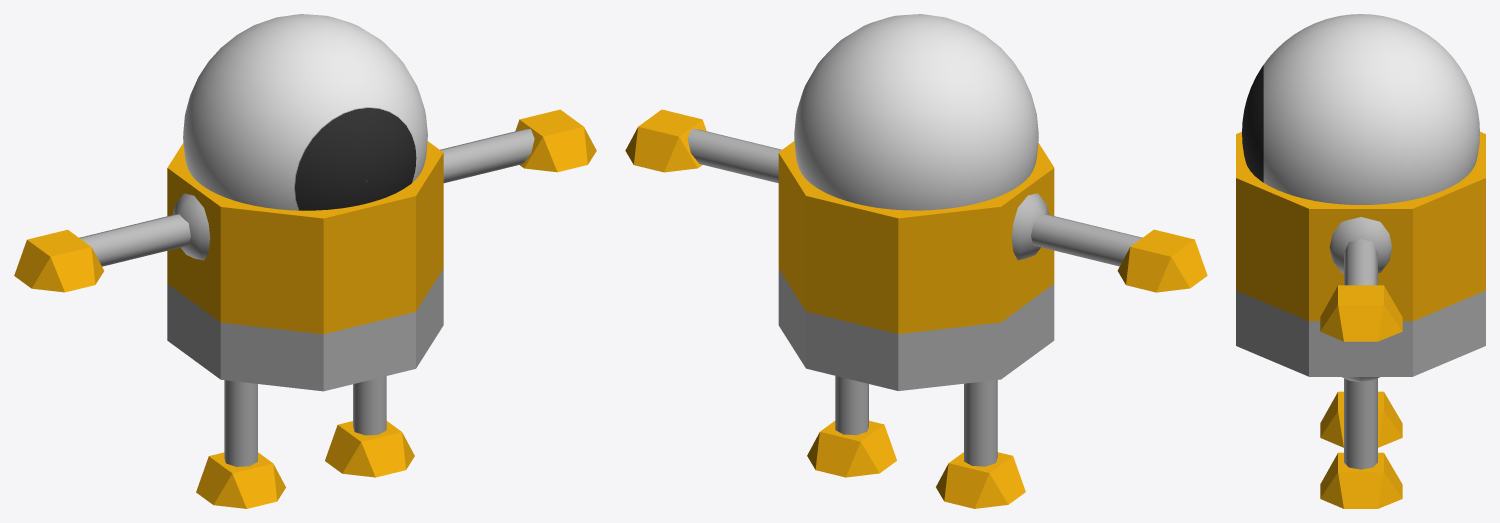
File: bot.dae
3 renders of one model, left to right at view 1: azimuth 30°, elevation 25°; view 2: azimuth 150°, elevation 25°; view 3: azimuth 270°, elevation 25°, orthographic. The views are drawn at different scales.
Visible parts, largest first — view 1: Eye, Torso, Hip, HandR, FootL, FootR, HandL, ArmR, ArmL, LegR, LegL, ShoulderR; view 2: Eye, Torso, Hip, HandR, FootL, FootR, HandL, ArmR, ArmL, LegR, LegL, ShoulderR; view 3: Eye, Torso, Hip, HandL, FootL, LegL, FootR, ShoulderL, ArmL.
Boxes of the visible parts, left/top/right/bottom form: Eye: left=183, top=14, right=427, bottom=210; Torso: left=167, top=141, right=443, bottom=334; Hip: left=167, top=268, right=443, bottom=391; HandR: left=14, top=229, right=103, bottom=292; FootL: left=325, top=421, right=414, bottom=477; FootR: left=196, top=452, right=285, bottom=508; HandL: left=515, top=109, right=596, bottom=172; ArmR: left=79, top=214, right=190, bottom=266; ArmL: left=440, top=129, right=534, bottom=183; LegR: left=224, top=380, right=257, bottom=466; LegL: left=353, top=376, right=386, bottom=435; ShoulderR: left=172, top=193, right=210, bottom=260; Eye: left=794, top=14, right=1038, bottom=210; Torso: left=778, top=141, right=1054, bottom=333; Hip: left=778, top=269, right=1054, bottom=390; HandR: left=1117, top=229, right=1207, bottom=292; FootL: left=807, top=420, right=896, bottom=477; FootR: left=936, top=452, right=1025, bottom=508; HandL: left=625, top=109, right=706, bottom=172; ArmR: left=1031, top=214, right=1142, bottom=266; ArmL: left=687, top=129, right=781, bottom=183; LegR: left=964, top=380, right=997, bottom=466; LegL: left=835, top=376, right=868, bottom=435; ShoulderR: left=1011, top=193, right=1048, bottom=260; Eye: left=1242, top=14, right=1479, bottom=204; Torso: left=1236, top=131, right=1485, bottom=321; Hip: left=1236, top=290, right=1485, bottom=376; HandL: left=1320, top=285, right=1402, bottom=341; FootL: left=1320, top=452, right=1402, bottom=508; LegL: left=1344, top=378, right=1377, bottom=469; FootR: left=1320, top=391, right=1402, bottom=447; ShoulderL: left=1329, top=217, right=1392, bottom=273; ArmL: left=1344, top=239, right=1377, bottom=285.
Size of the model in its own units: 7.46 by 5.66 by 2.94.
Materials: 15 (1 with a texture image).
